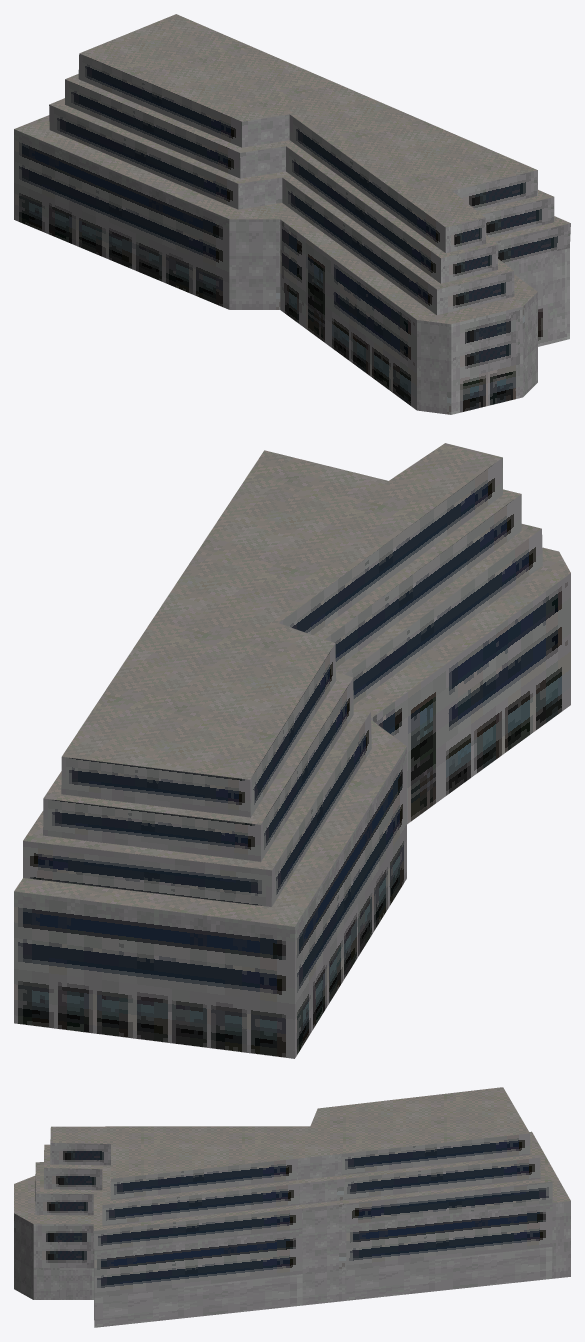
The model's file is loddecoblok1_lan.obj.
3 renders of one model, top to bottom at view 1: azimuth 30°, elevation 25°; view 2: azimuth 150°, elevation 25°; view 3: azimuth 270°, elevation 25°, orthographic. The views are drawn at different scales.
Parts seen in each view (by area): view 1: LODdecoblok1_LAn; view 2: LODdecoblok1_LAn; view 3: LODdecoblok1_LAn.
Boxes of the visible parts, <box> form: LODdecoblok1_LAn: <box>14,14,570,414</box>; LODdecoblok1_LAn: <box>14,443,570,1058</box>; LODdecoblok1_LAn: <box>14,1087,570,1327</box>.
Size of the model in its own units: 42.47 by 22.99 by 82.85.
Materials: 3 (3 with a texture image).
